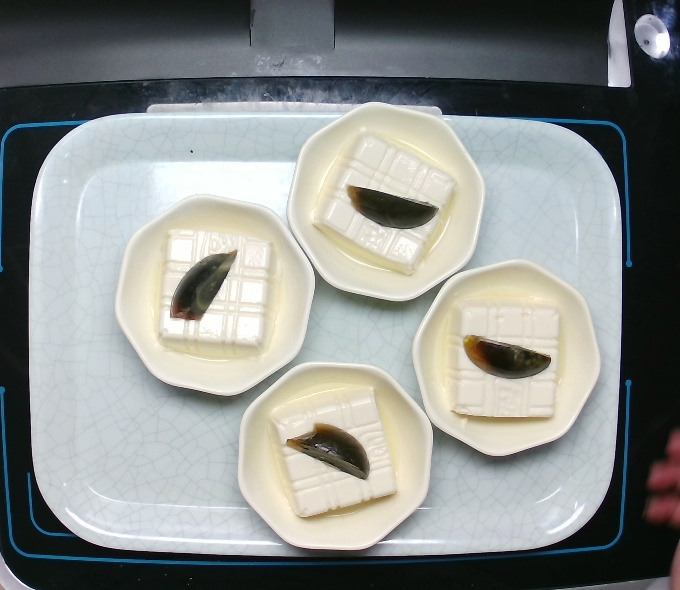wcq-PiDanDouFu: (306, 126, 466, 277), (151, 217, 288, 370), (266, 382, 402, 522), (436, 293, 574, 427)
